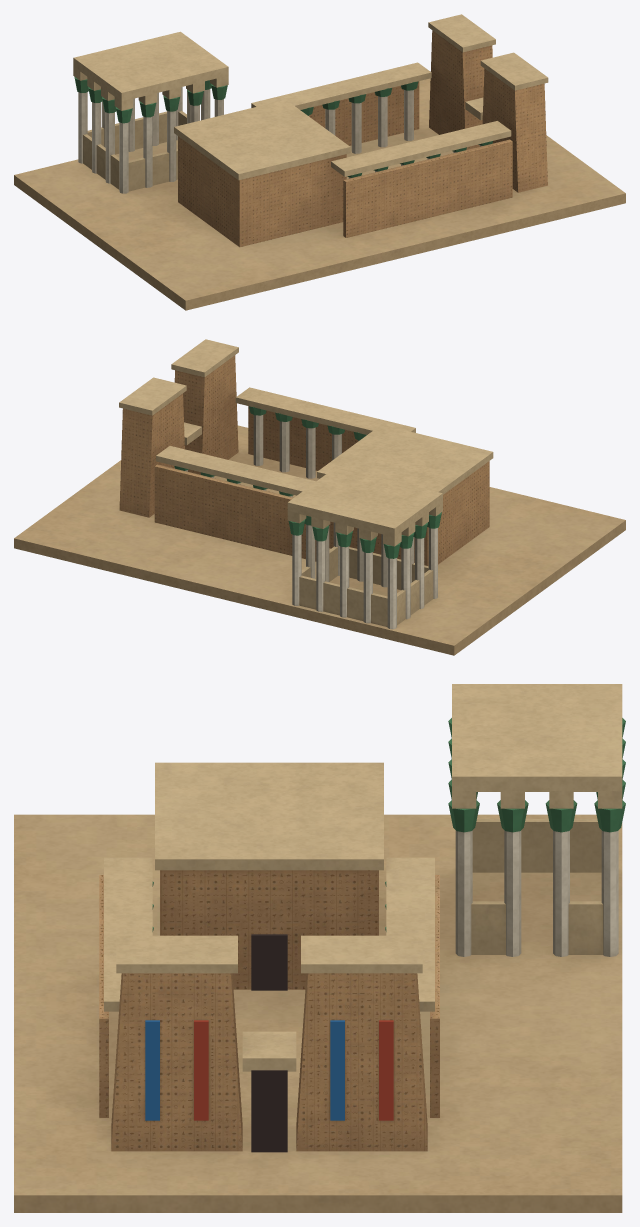
Rendered from philae_tex.glb.
3 views of the same model, one above another, from view 1: azimuth 30°, elevation 25°; view 2: azimuth 150°, elevation 25°; view 3: azimuth 270°, elevation 25° (orthographic). The views are drawn at different scales.
Visible parts, largest first — view 1: philae; view 2: philae; view 3: philae.
Part boxes in pixels (x1,y1,x2,y2): philae: (14,14,625,310); philae: (14,339,625,655); philae: (14,684,625,1212).
Size of the model in its own units: 74 by 18.7 by 50.3.
8 materials, 5 textured.
